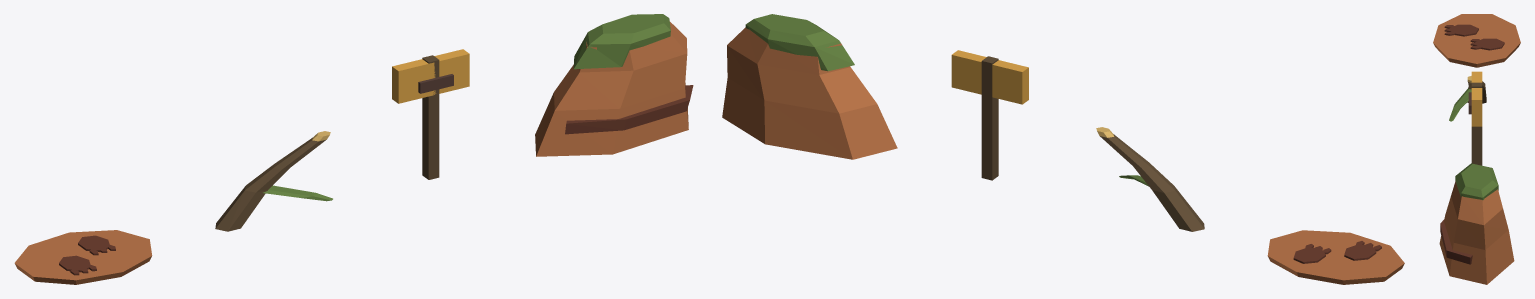
File: nat-kinich-ambush-model.obj
3 views of the same model, side by side, from view 1: azimuth 30°, elevation 25°; view 2: azimuth 150°, elevation 25°; view 3: azimuth 270°, elevation 25° (orthographic). The views are drawn at different scales.
Visible parts, largest first — view 1: HuntTrailProps; view 2: HuntTrailProps; view 3: HuntTrailProps.
Part boxes in pixels (box(x1,y1,x2,y2)): HuntTrailProps: box(14, 14, 693, 284); HuntTrailProps: box(722, 14, 1404, 284); HuntTrailProps: box(1433, 14, 1520, 284).
Bounding box in the file's own units: 5.37 × 0.9 × 0.7485.
